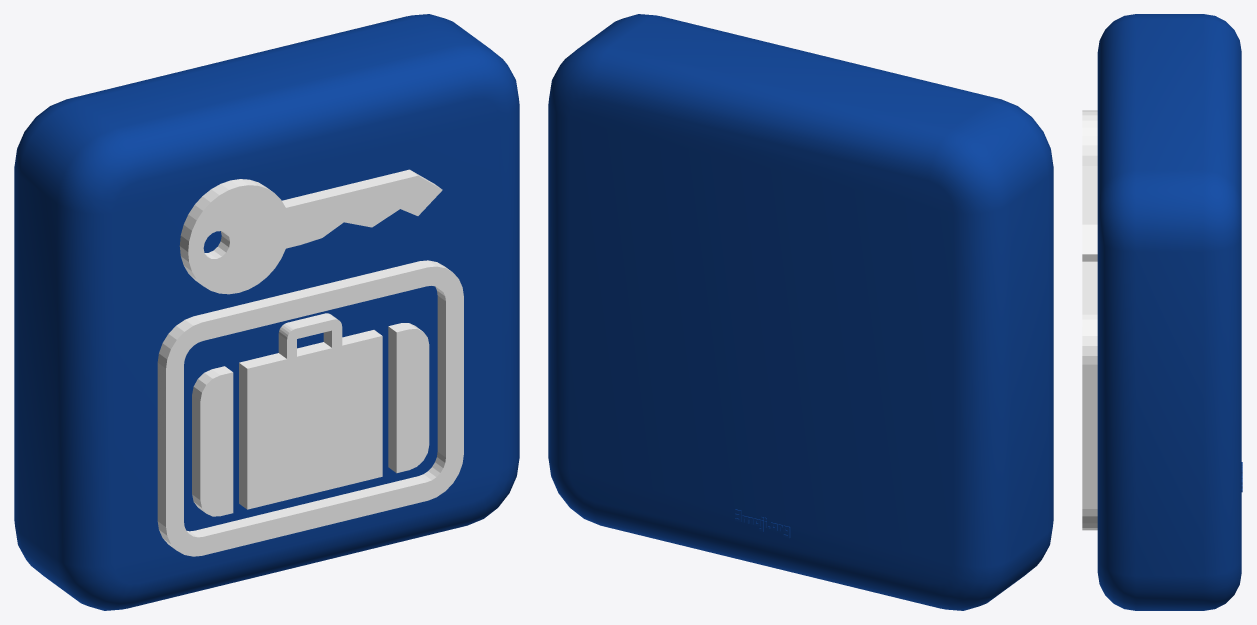
Rendered from left_luggage.gltf.
The picture shows the model from 3 angles, left to right: view 1: azimuth 30°, elevation 25°; view 2: azimuth 150°, elevation 25°; view 3: azimuth 270°, elevation 25°; orthographic projection. The views are drawn at different scales.
Parts seen in each view (by area): view 1: Cube.311; view 2: Cube.311; view 3: Cube.311.
Boxes of the visible parts, x1,y1,x2,y2 form: Cube.311: (14, 14, 519, 610); Cube.311: (548, 14, 1053, 610); Cube.311: (1082, 14, 1242, 610).
Size of the model in its own units: 2.2 by 2.2 by 0.7337.
1 material, 1 textured.
